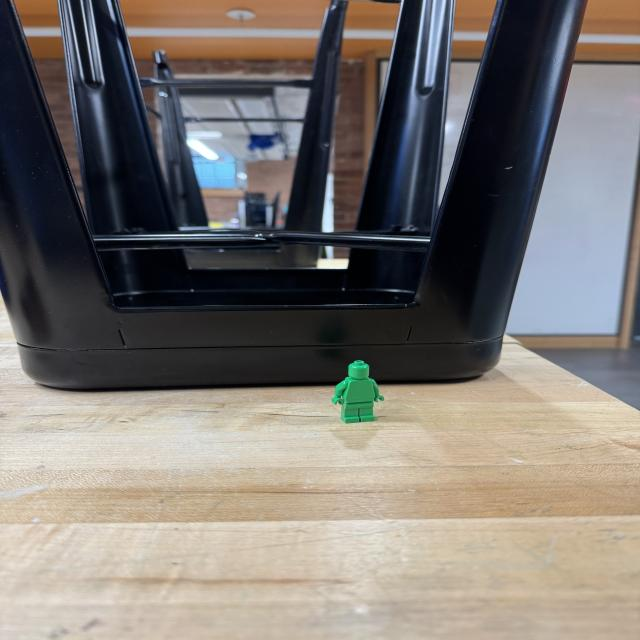Green Mini Figure: (331, 360, 384, 423)
